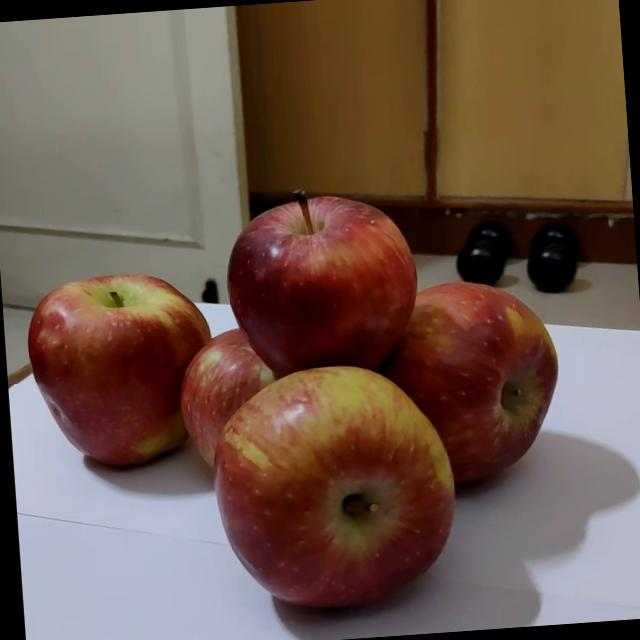apple: (185, 351, 452, 624), (8, 252, 218, 483), (350, 274, 566, 498), (206, 177, 414, 391)
